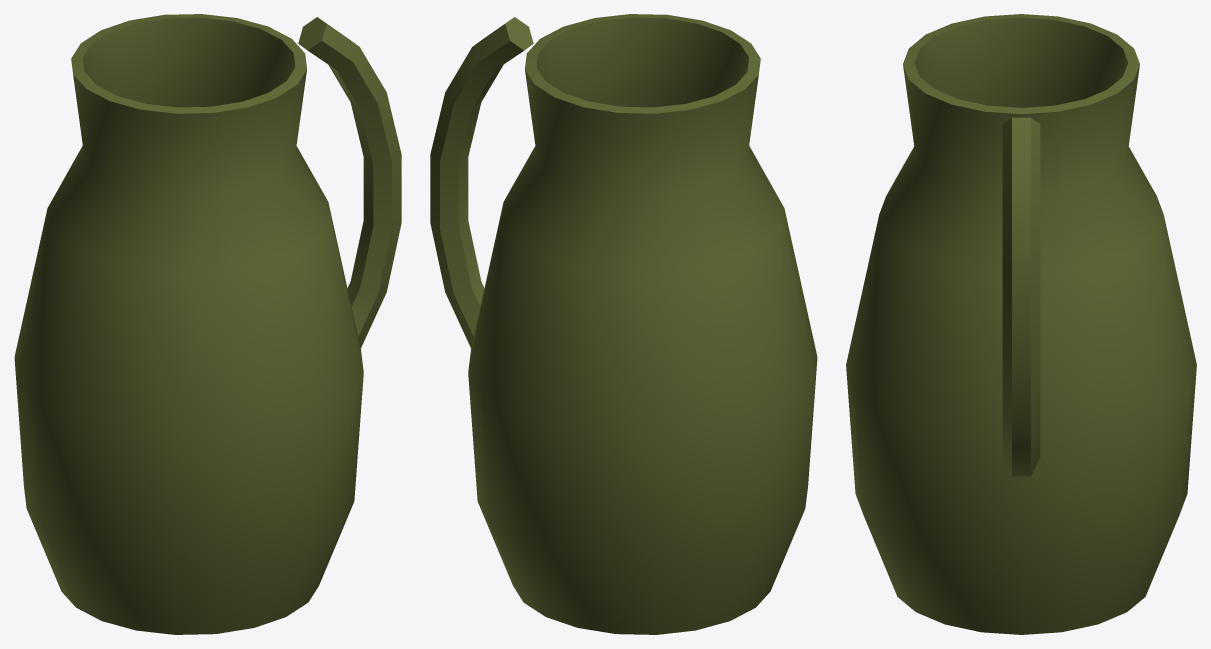
File: tpl_cucina_jug.glb
3 views of the same model, side by side, from view 1: azimuth 30°, elevation 25°; view 2: azimuth 150°, elevation 25°; view 3: azimuth 270°, elevation 25° (orthographic).
Parts seen in each view (by area): view 1: tpl_cucina_jug; view 2: tpl_cucina_jug; view 3: tpl_cucina_jug.
Boxes of the visible parts, x1,y1,x2,y2 form: tpl_cucina_jug: [14, 14, 401, 634]; tpl_cucina_jug: [430, 14, 817, 634]; tpl_cucina_jug: [846, 14, 1196, 634].
Bounding box in the file's own units: 0.175 × 0.2452 × 0.148.
